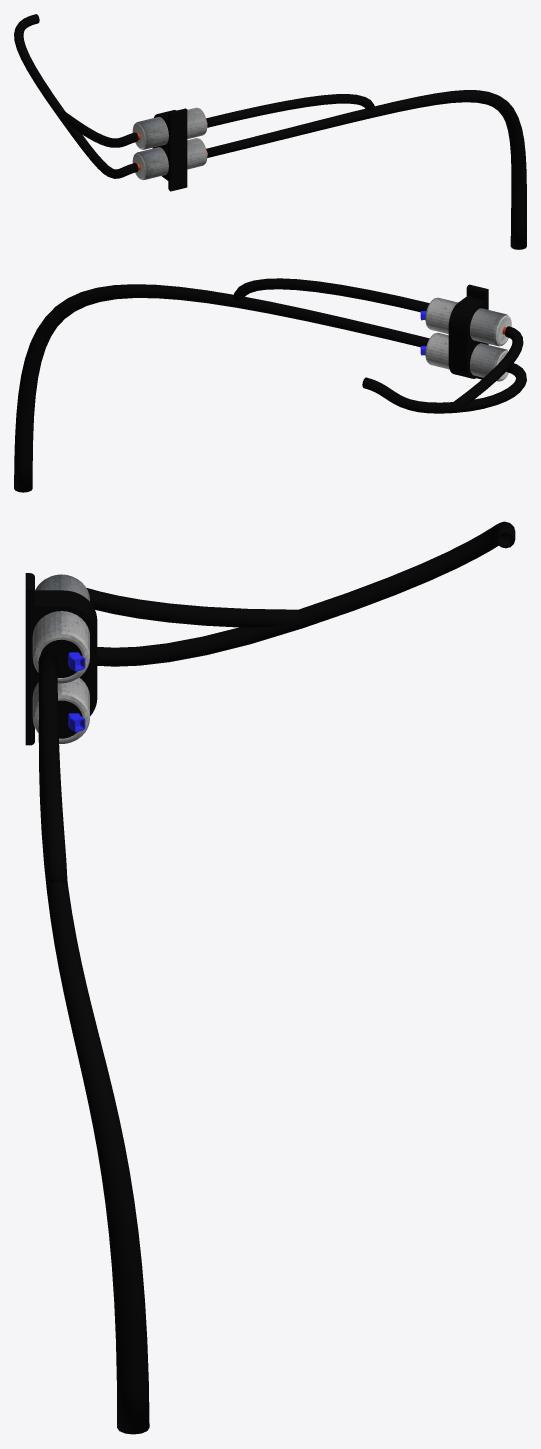
Rendered from electric_fuel_pump.obj.
The picture shows the model from 3 angles, top to bottom: view 1: azimuth 30°, elevation 25°; view 2: azimuth 150°, elevation 25°; view 3: azimuth 270°, elevation 25°; orthographic projection. The views are drawn at different scales.
Parts seen in each view (by area): view 1: BezierCurve.002, BezierCurve, Holder, Pump, Pump.001; view 2: BezierCurve.002, BezierCurve, Holder, Pump.001, Pump; view 3: BezierCurve.002, BezierCurve, Holder, Pump.001, Pump.
Boxes of the visible parts, x1,y1,x2,y2 form: BezierCurve.002: (206,90,526,249); BezierCurve: (14,14,138,178); Holder: (152,108,187,191); Pump: (132,138,207,180); Pump.001: (132,107,207,149); BezierCurve.002: (14,278,429,492); BezierCurve: (362,326,526,413); Holder: (448,284,488,379); Pump.001: (425,297,511,346); Pump: (425,332,508,381); BezierCurve.002: (38,652,149,1434); BezierCurve: (86,521,515,666); Holder: (25,573,97,745); Pump.001: (32,574,89,683); Pump: (32,677,89,743).
Bounding box in the file's own units: 0.5168 × 0.2983 × 0.2559.
